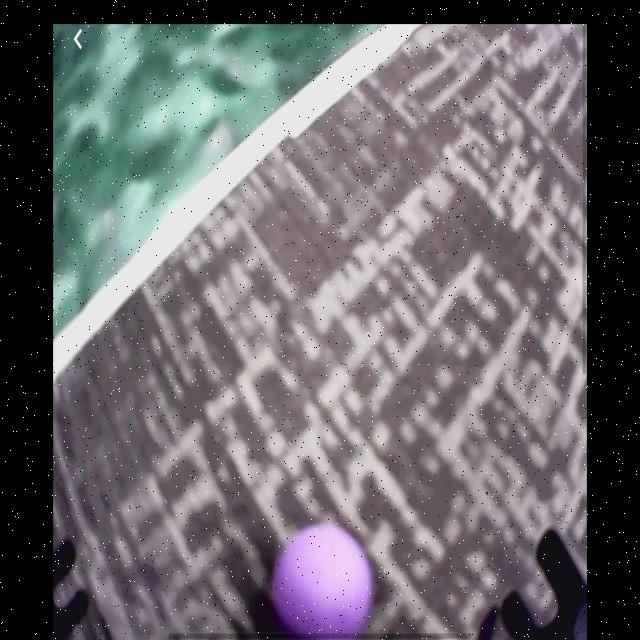ball: (271, 521, 375, 636)
